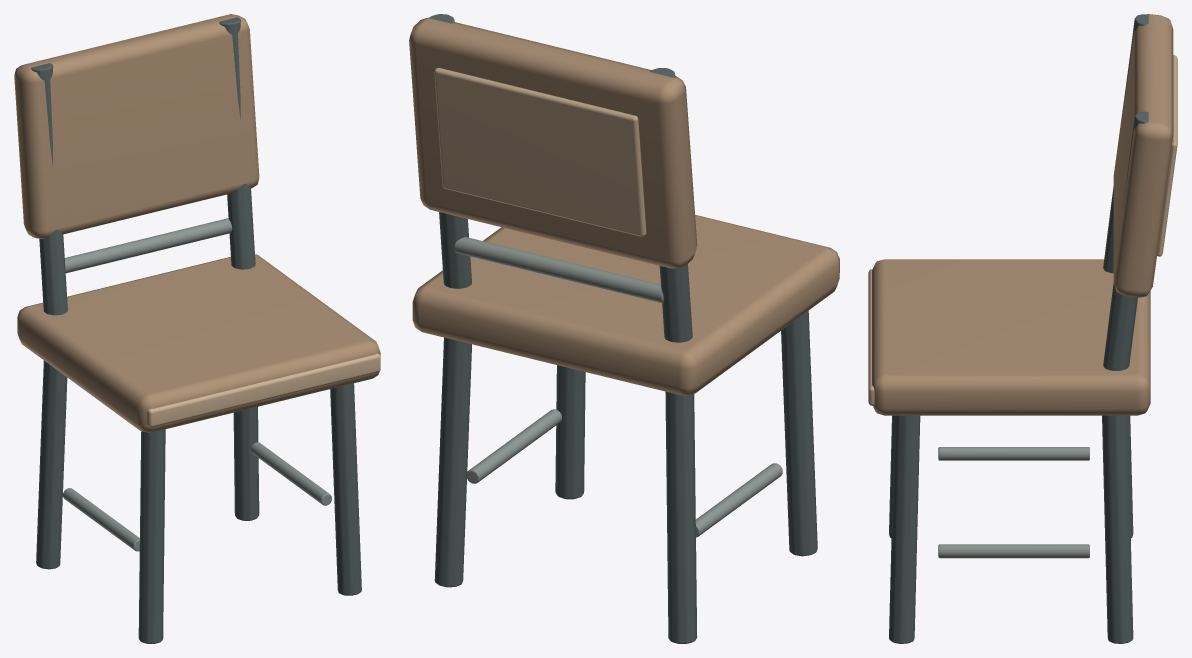
The model's file is classroom_teacher_chair.glb.
3 views of the same model, side by side, from view 1: azimuth 30°, elevation 25°; view 2: azimuth 150°, elevation 25°; view 3: azimuth 270°, elevation 25° (orthographic). The views are drawn at different scales.
Visible parts, largest first — view 1: Chair_backrest, Chair_seat_wood, Chair_leg, Chair_leg.002, Chair_leg.001, Chair_seat_front_edge, Chair_back_crossbar, Chair_leg.003, Chair_back_upright, Chair_back_upright.001, Chair_side_footrest_right, Chair_side_footrest_left; view 2: Chair_seat_wood, Chair_backrest, Chair_backrest_insert, Chair_leg.001, Chair_leg.003, Chair_leg, Chair_back_crossbar, Chair_leg.002, Chair_back_upright, Chair_back_upright.001, Chair_side_footrest_right, Chair_side_footrest_left; view 3: Chair_seat_wood, Chair_backrest, Chair_leg.003, Chair_leg.002, Chair_back_upright.001, Chair_side_footrest_right, Chair_side_footrest_left, Chair_backrest_insert, Chair_back_upright, Chair_seat_front_edge.
Part boxes in pixels (x1,y1,x2,y2): Chair_backrest: (14, 14, 259, 238); Chair_seat_wood: (17, 254, 380, 432); Chair_leg: (138, 429, 165, 643); Chair_leg.002: (330, 383, 361, 595); Chair_leg.001: (36, 360, 67, 569); Chair_seat_front_edge: (147, 353, 380, 427); Chair_back_crossbar: (64, 218, 232, 273); Chair_leg.003: (233, 407, 259, 520); Chair_back_upright: (31, 63, 67, 315); Chair_back_upright.001: (219, 17, 255, 269); Chair_side_footrest_right: (250, 442, 331, 505); Chair_side_footrest_left: (63, 488, 139, 551); Chair_seat_wood: (412, 215, 839, 395); Chair_backrest: (409, 17, 697, 268); Chair_backrest_insert: (434, 68, 646, 236); Chair_leg.001: (665, 391, 697, 643); Chair_leg.003: (434, 337, 471, 587); Chair_leg: (781, 311, 817, 556); Chair_back_crossbar: (454, 237, 663, 303); Chair_leg.002: (555, 365, 585, 499); Chair_back_upright: (650, 68, 692, 342); Chair_back_upright.001: (429, 14, 471, 288); Chair_side_footrest_right: (467, 409, 561, 483); Chair_side_footrest_left: (695, 463, 782, 537); Chair_seat_wood: (872, 259, 1150, 415); Chair_backrest: (1113, 14, 1173, 297); Chair_leg.003: (1102, 415, 1133, 643); Chair_leg.002: (889, 415, 920, 643); Chair_back_upright.001: (1103, 111, 1148, 370); Chair_side_footrest_right: (938, 544, 1089, 558); Chair_side_footrest_left: (938, 447, 1089, 460); Chair_backrest_insert: (1157, 55, 1177, 256); Chair_back_upright: (1103, 14, 1148, 273); Chair_seat_front_edge: (868, 269, 874, 405).
Size of the model in its own units: 0.49 by 0.9478 by 0.509.
